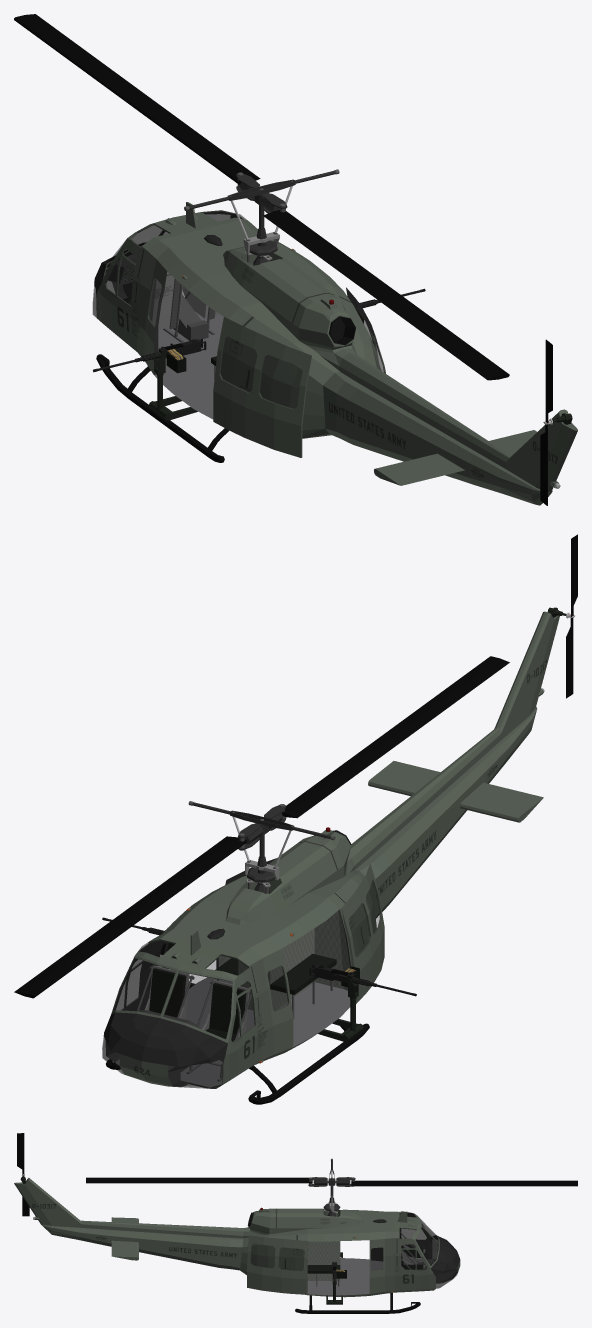
File: Heli.obj
The picture shows the model from 3 angles, top to bottom: view 1: azimuth 30°, elevation 25°; view 2: azimuth 150°, elevation 25°; view 3: azimuth 270°, elevation 25°; orthographic projection. The views are drawn at different scales.
Parts seen in each view (by area): view 1: Body3, Doors1, Propeller2, Propeller1, Doorwindows1, Floor1, Propellermount1, Windows1, Frontseatbases1, Skids1, Dash1, Base2 (+2 smaller); view 2: Body3, Windows1, Propeller1, Propeller2, Floor1, Seats1, Doors1, Propellermount1, Skids1, Frontseatbases1, Doorwindows1; view 3: Body3, Doors1, Windows1, Floor1, Propeller1, Propeller2, Doorwindows1, Propellermount1, Skids1, Seats1, Dash1, Propeller3 (+1 smaller).
Boxes of the visible parts, bbox=[...] form: Body3: bbox=[94, 202, 577, 505]; Doors1: bbox=[213, 287, 385, 457]; Propeller2: bbox=[263, 210, 509, 380]; Propeller1: bbox=[14, 14, 260, 184]; Doorwindows1: bbox=[219, 310, 383, 408]; Floor1: bbox=[154, 311, 223, 419]; Propellermount1: bbox=[184, 169, 339, 255]; Windows1: bbox=[92, 210, 246, 326]; Frontseatbases1: bbox=[128, 272, 220, 342]; Skids1: bbox=[96, 354, 229, 462]; Dash1: bbox=[105, 254, 208, 340]; Base2: bbox=[148, 375, 197, 420]; Body3: bbox=[103, 611, 559, 1088]; Windows1: bbox=[102, 939, 288, 1088]; Propeller1: bbox=[14, 836, 246, 998]; Propeller2: bbox=[282, 656, 509, 818]; Floor1: bbox=[115, 977, 350, 1087]; Seats1: bbox=[149, 953, 336, 1041]; Doors1: bbox=[216, 858, 384, 1003]; Propellermount1: bbox=[188, 801, 335, 882]; Skids1: bbox=[106, 1023, 369, 1104]; Frontseatbases1: bbox=[136, 965, 251, 1081]; Doorwindows1: bbox=[349, 880, 380, 956]; Body3: bbox=[14, 1178, 460, 1297]; Doors1: bbox=[247, 1226, 308, 1294]; Windows1: bbox=[371, 1211, 457, 1288]; Floor1: bbox=[307, 1258, 383, 1295]; Propeller1: bbox=[351, 1180, 577, 1186]; Propeller2: bbox=[86, 1177, 312, 1183]; Doorwindows1: bbox=[251, 1243, 304, 1270]; Propellermount1: bbox=[308, 1158, 355, 1212]; Skids1: bbox=[295, 1293, 420, 1313]; Seats1: bbox=[307, 1229, 423, 1273]; Dash1: bbox=[414, 1239, 457, 1280]; Propeller3: bbox=[17, 1133, 24, 1174].
Size of the model in its own units: 19.52 by 17.49 by 57.15.
Materials: 18 (5 with a texture image).
